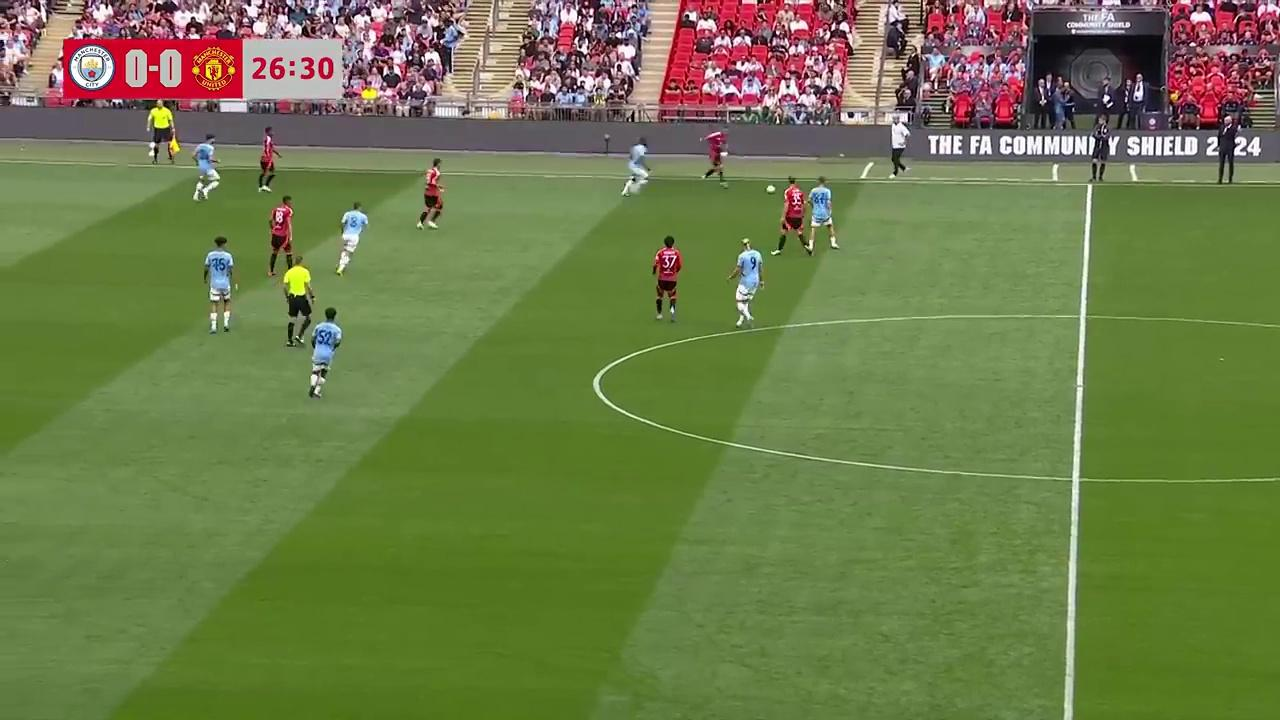ball: (764, 181, 777, 194)
player: (202, 235, 238, 335), (771, 180, 813, 256), (308, 306, 342, 398), (726, 243, 762, 328), (651, 235, 683, 322), (806, 176, 840, 251), (335, 202, 368, 275), (267, 195, 294, 278), (416, 158, 445, 230), (192, 136, 220, 201), (621, 138, 650, 196), (701, 129, 728, 186), (257, 127, 279, 193)
referee: (280, 255, 315, 347), (146, 105, 173, 166)
